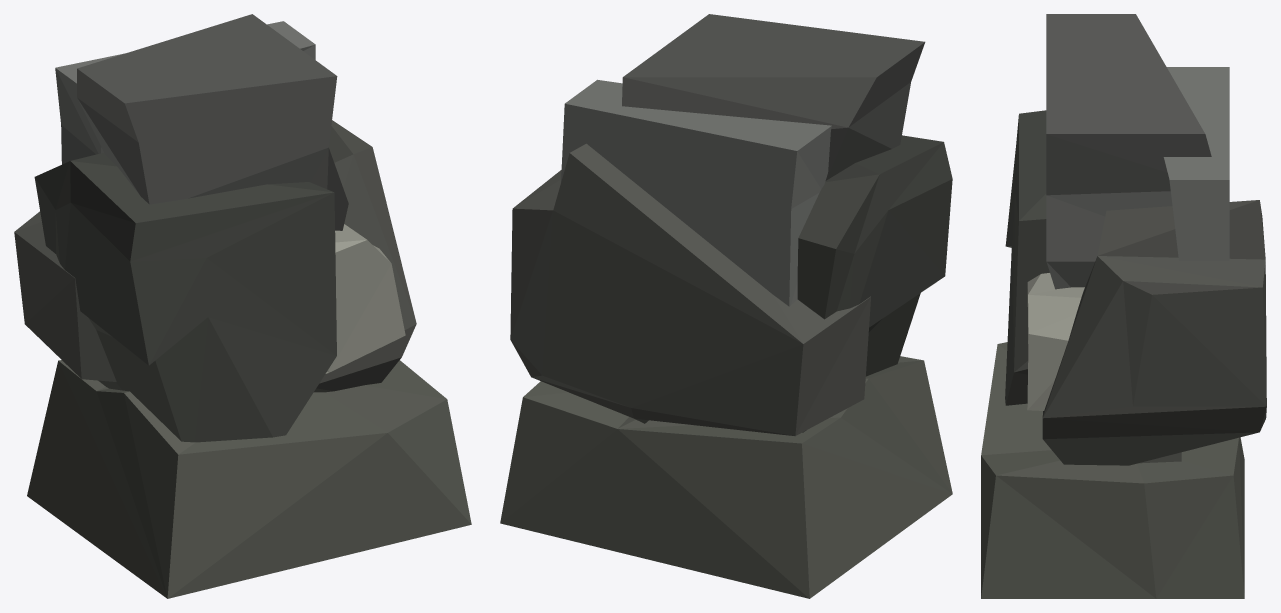
Rendered from DD_Rock06.fbx.
3 renders of one model, left to right at view 1: azimuth 30°, elevation 25°; view 2: azimuth 150°, elevation 25°; view 3: azimuth 270°, elevation 25°, orthographic. The views are drawn at different scales.
Visible parts, largest first — view 1: DD_Rock06; view 2: DD_Rock06; view 3: DD_Rock06.
Boxes of the visible parts, <box> form: DD_Rock06: <box>14,14,471,598</box>; DD_Rock06: <box>500,14,952,598</box>; DD_Rock06: <box>981,14,1266,598</box>.
Bounding box in the file's own units: 54.03 × 75.49 × 44.22.
1 material, 1 textured.
